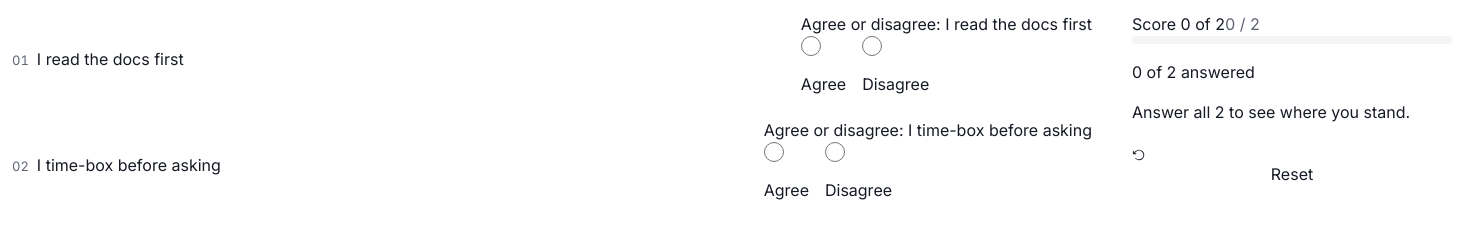
Test: SelfAudit › shows the level once every statement is answered
This screenshot has width=1464, height=230.
Click the radio button labelled "agree" below "Agree or disagree: I read the docs first". click: (811, 46)
box: top-left (801, 36), bottom-right (821, 56)
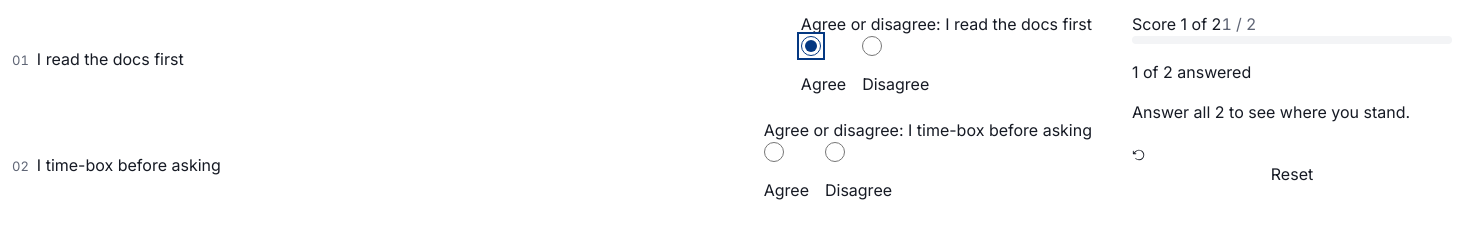
Click the radio button labelled "agree" in the row of "02". click: (774, 152)
box: top-left (764, 142), bottom-right (784, 162)
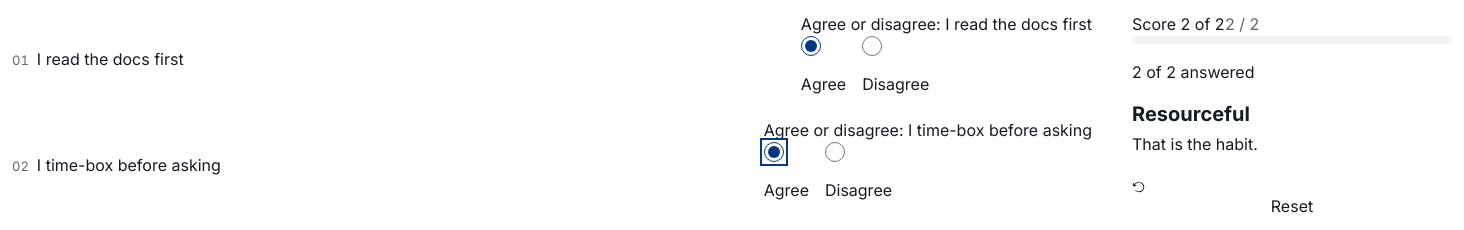
Expected: the text "Resourceful" is shown, top-left (1132, 102), bottom-right (1250, 126)
